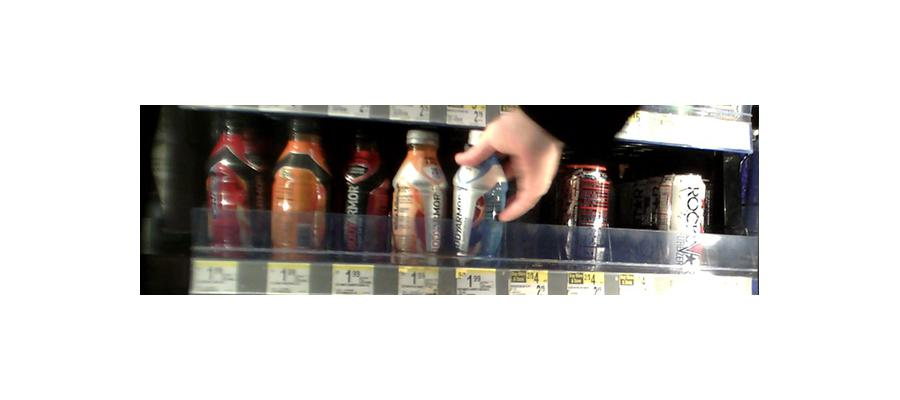bottle: (204, 107, 268, 259), (270, 117, 330, 259), (390, 127, 446, 264), (452, 142, 508, 264), (339, 134, 388, 260), (559, 160, 614, 266), (651, 169, 704, 268), (622, 167, 665, 274)
